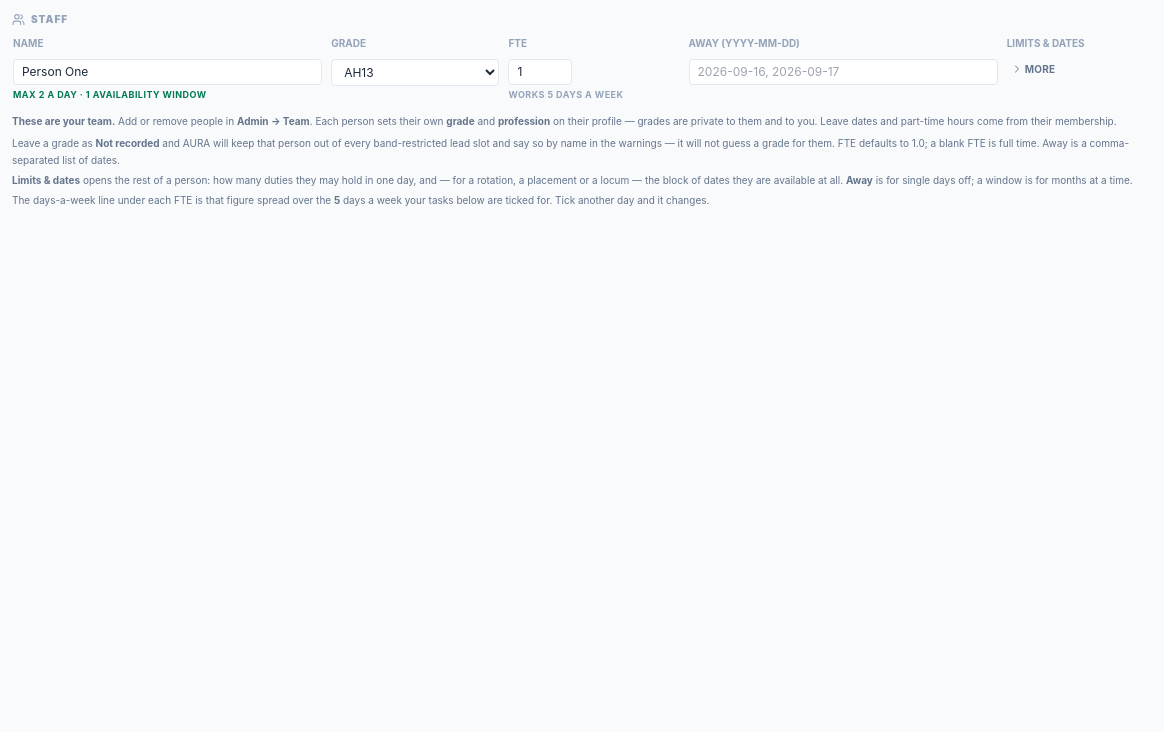
the live drawer offers nothing it cannot do › shows the values but refuses edits, rather than hiding them
Click the button with aria-label "Staff row 1: limits and availability".
click(1033, 69)  # box [1007,59,1059,79]
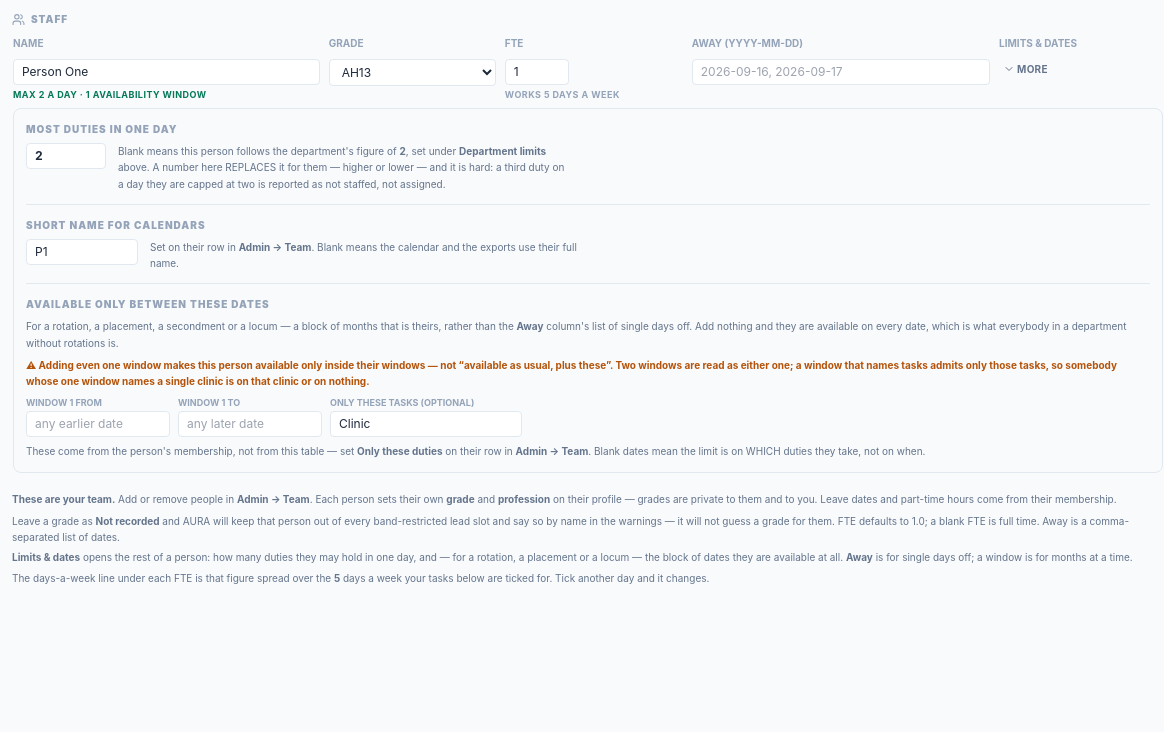
Now the field named "Staff row 1 most duties per day" holds "2", box [26,143,106,169]
Now the field named "Staff row 1 short name" holds "P1", box [26,239,138,265]
Now the field named "Staff row 1 window 1 tasks" holds "Clinic", box [330,411,522,437]
